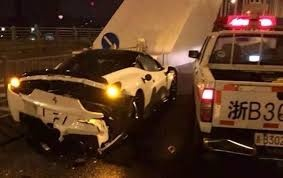Smashed: (10, 80, 120, 143)
